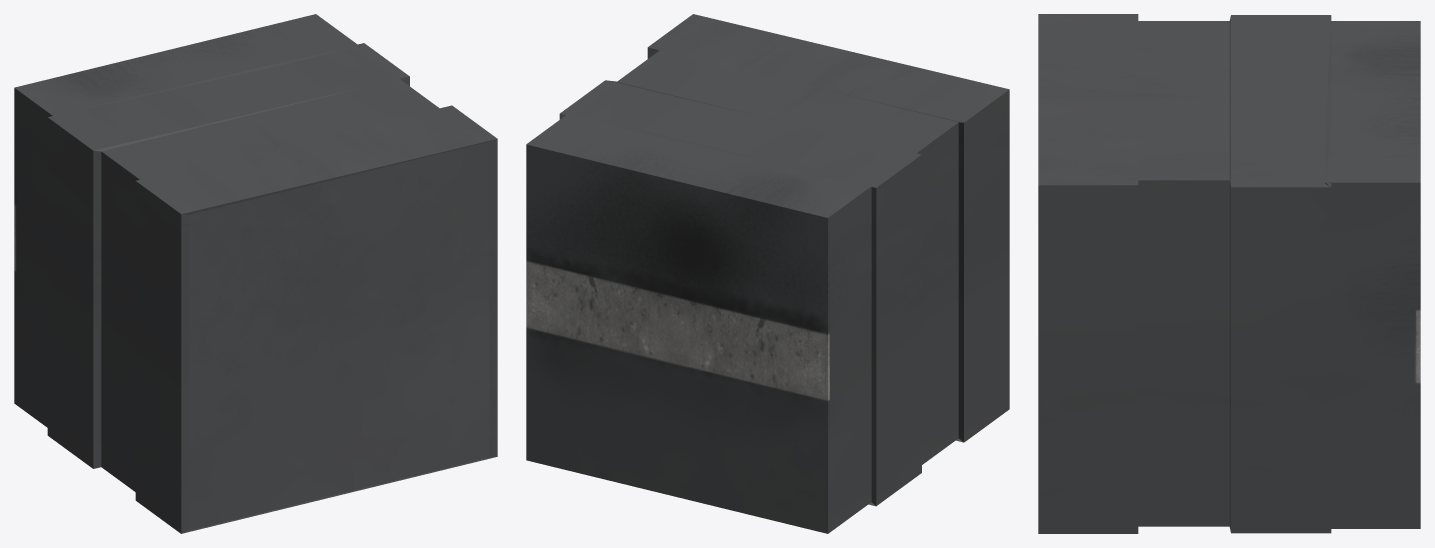
File: cube_modular4.fbx
The picture shows the model from 3 angles, left to right: view 1: azimuth 30°, elevation 25°; view 2: azimuth 150°, elevation 25°; view 3: azimuth 270°, elevation 25°; orthographic projection. The views are drawn at different scales.
Parts seen in each view (by area): view 1: cube_new; view 2: cube_new; view 3: cube_new.
Boxes of the visible parts, x1,y1,x2,y2 form: cube_new: (14,14,497,533); cube_new: (526,14,1009,533); cube_new: (1038,14,1420,533).
Size of the model in its own units: 420 by 405 by 400.
Materials: 1 (1 with a texture image).
